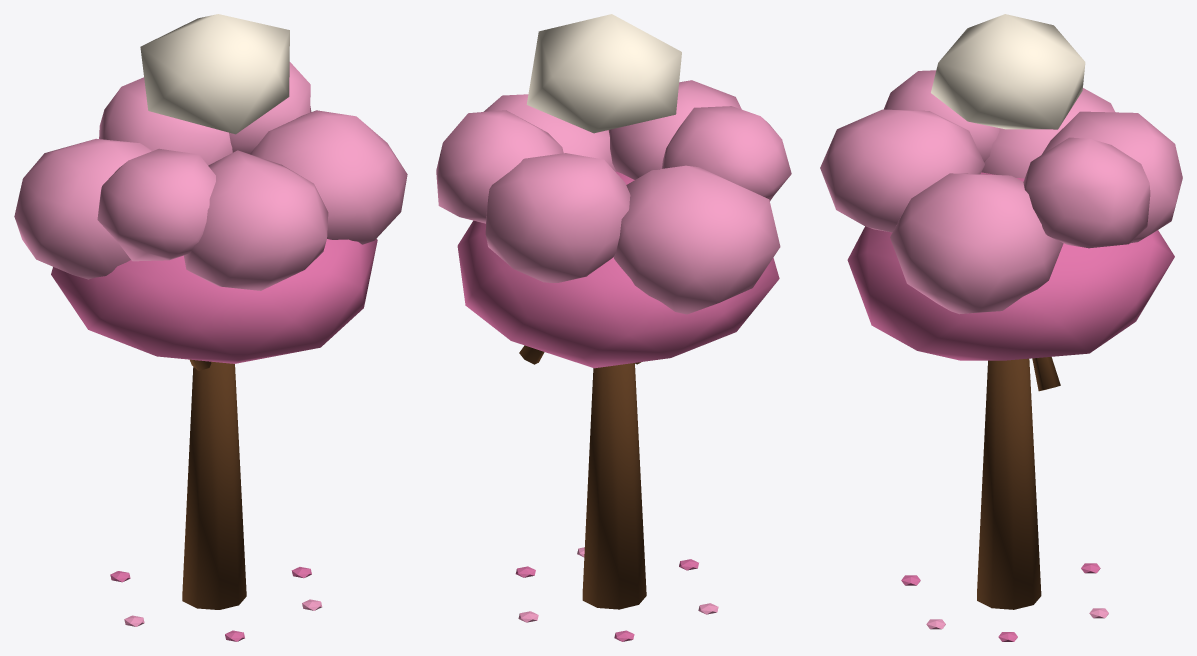
File: hd_blossom.gltf
3 views of the same model, side by side, from view 1: azimuth 30°, elevation 25°; view 2: azimuth 150°, elevation 25°; view 3: azimuth 270°, elevation 25° (orthographic).
Visible parts, largest first — view 1: canopyDark, can3, crown, trunk, can1, can0, can5, can2, can4; view 2: canopyDark, can0, can2, crown, trunk, can4, can5, can3, can1; view 3: canopyDark, can1, crown, trunk, can3, can4, can2, can0, can5, br0.
Boxes of the visible parts, <box> form: canopyDark: <box>51,239,377,363</box>; can3: <box>184,150,328,290</box>; crown: <box>140,14,289,134</box>; trunk: <box>182,361,246,609</box>; can1: <box>250,110,407,244</box>; can0: <box>14,138,152,279</box>; can5: <box>97,148,215,261</box>; can2: <box>99,77,232,165</box>; can4: <box>229,62,311,154</box>; canopyDark: <box>457,171,779,368</box>; can0: <box>613,165,780,314</box>; can2: <box>485,153,630,282</box>; crown: <box>526,14,681,133</box>; trunk: <box>582,363,646,609</box>; can4: <box>436,110,563,223</box>; can5: <box>662,106,791,201</box>; can3: <box>608,80,741,179</box>; can1: <box>483,94,616,171</box>; canopyDark: <box>847,172,1174,360</box>; can1: <box>890,173,1063,314</box>; crown: <box>931,14,1085,129</box>; trunk: <box>977,358,1041,609</box>; can3: <box>820,109,984,232</box>; can4: <box>1023,137,1150,248</box>; can2: <box>1041,111,1182,243</box>; can0: <box>981,88,1115,178</box>; can5: <box>883,70,999,161</box>; br0: <box>1032,357,1060,391</box>.
Bounding box in the file's own units: 3.05 × 5.05 × 2.84.
